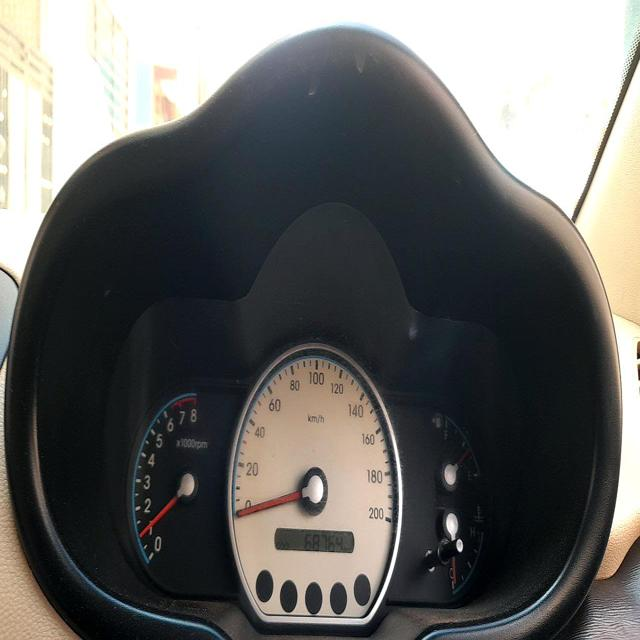odometer: (302, 529, 345, 554)
